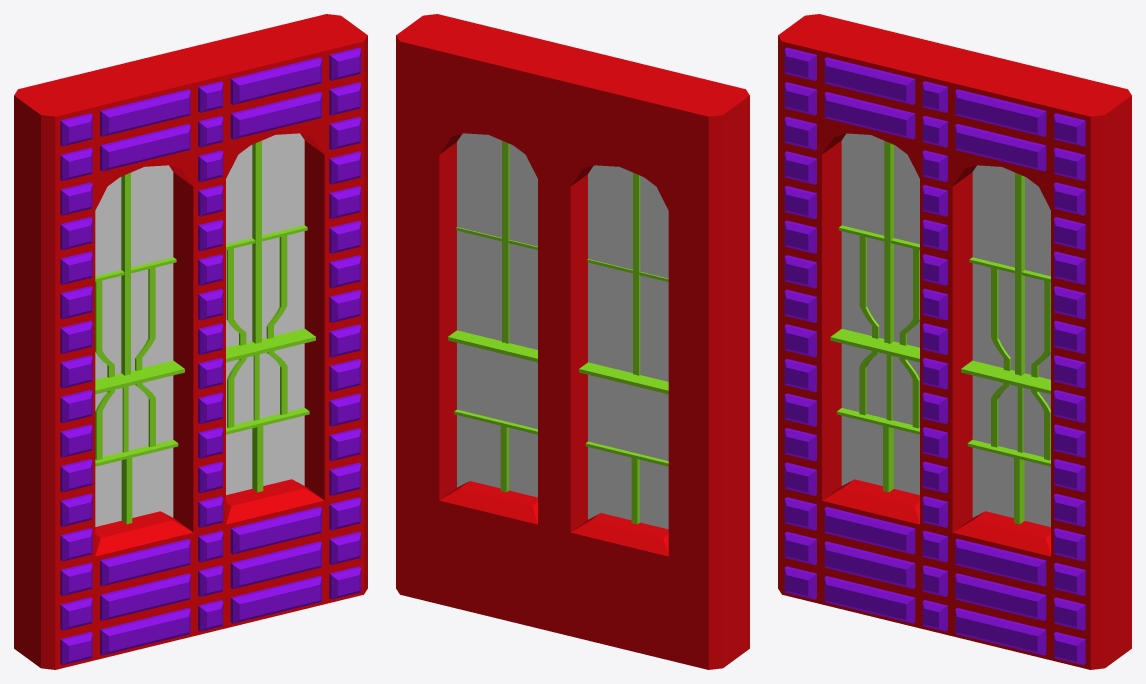
The model's file is GothicWallV1.5UVID.fbx.
3 views of the same model, side by side, from view 1: azimuth 30°, elevation 25°; view 2: azimuth 150°, elevation 25°; view 3: azimuth 330°, elevation 25° (orthographic).
Visible parts, largest first — view 1: GothicWallV1, Plane, Pillars.003, Pillars.001, Pillars.002, Pillars; view 2: GothicWallV1, Plane; view 3: GothicWallV1, Plane, Pillars.003, Pillars.001, Pillars, Pillars.002.
Part boxes in pixels (box(x1,y1,x2,y2)): GothicWallV1: box(14, 14, 367, 669); Plane: box(95, 133, 304, 526); Pillars.003: box(226, 235, 287, 345); Pillars.001: box(95, 267, 155, 377); Pillars.002: box(227, 351, 287, 427); Pillars: box(95, 383, 155, 460); GothicWallV1: box(396, 14, 749, 669); Plane: box(457, 133, 668, 529); GothicWallV1: box(778, 14, 1131, 669); Plane: box(841, 133, 1050, 526); Pillars.003: box(991, 267, 1050, 377); Pillars.001: box(859, 235, 919, 345); Pillars: box(859, 351, 919, 428); Pillars.002: box(991, 383, 1050, 460).
Size of the model in its own units: 200 by 323 by 44.48.
